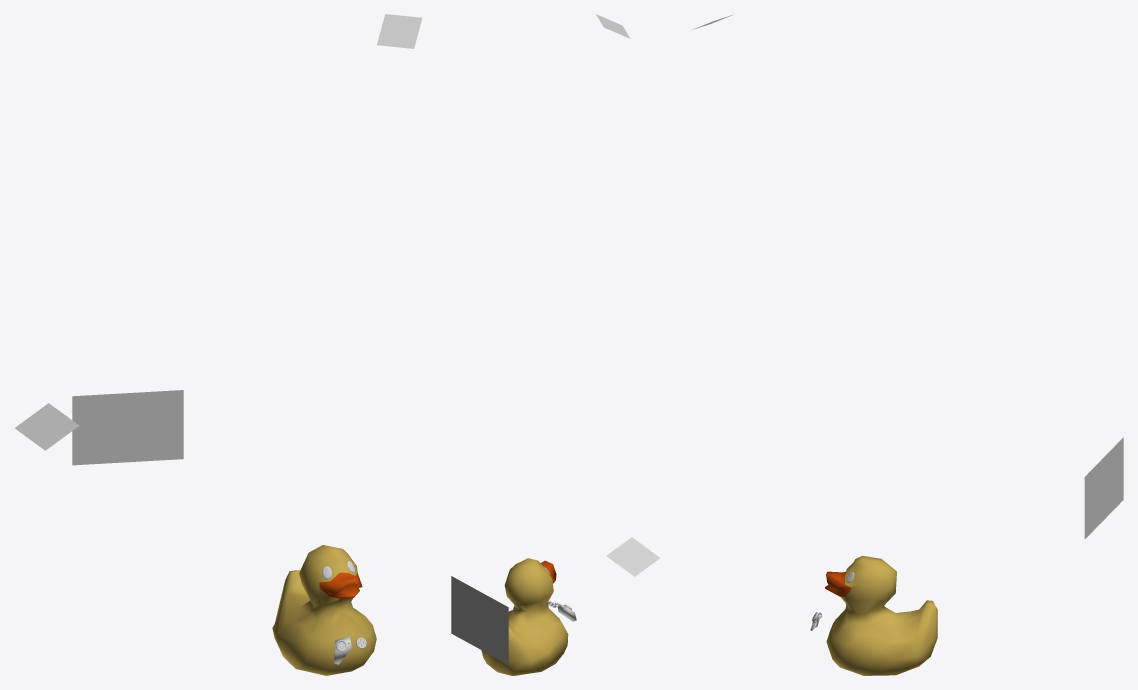
File: Duck_Gamer.dae
3 views of the same model, side by side, from view 1: azimuth 30°, elevation 25°; view 2: azimuth 150°, elevation 25°; view 3: azimuth 270°, elevation 25° (orthographic). The views are drawn at different scales.
Parts seen in each view (by area): view 1: Rubber_Duck, Light_right, Light_back, Light2; view 2: Rubber_Duck, Light_right, Light_back; view 3: Rubber_Duck, Light_right.
Boxes of the visible parts, x1,y1,x2,y2 form: Rubber_Duck: (272,545,376,675); Light_right: (72,390,183,465); Light_back: (14,403,79,450); Light2: (377,14,422,48); Rubber_Duck: (481,558,568,675); Light_right: (451,576,508,664); Light_back: (606,537,659,576); Rubber_Duck: (825,555,937,675); Light_right: (1084,437,1123,539).
Bounding box in the file's own units: 8.18 × 13.01 × 21.3.
